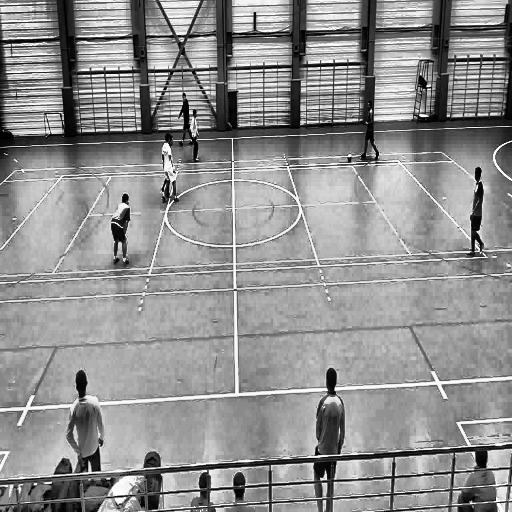ball: (346, 153, 354, 165)
player: (312, 365, 346, 512), (66, 367, 103, 468), (467, 158, 489, 260), (108, 191, 136, 270), (359, 97, 382, 166), (161, 132, 182, 207), (177, 92, 195, 147), (162, 130, 174, 200), (189, 105, 200, 166)
